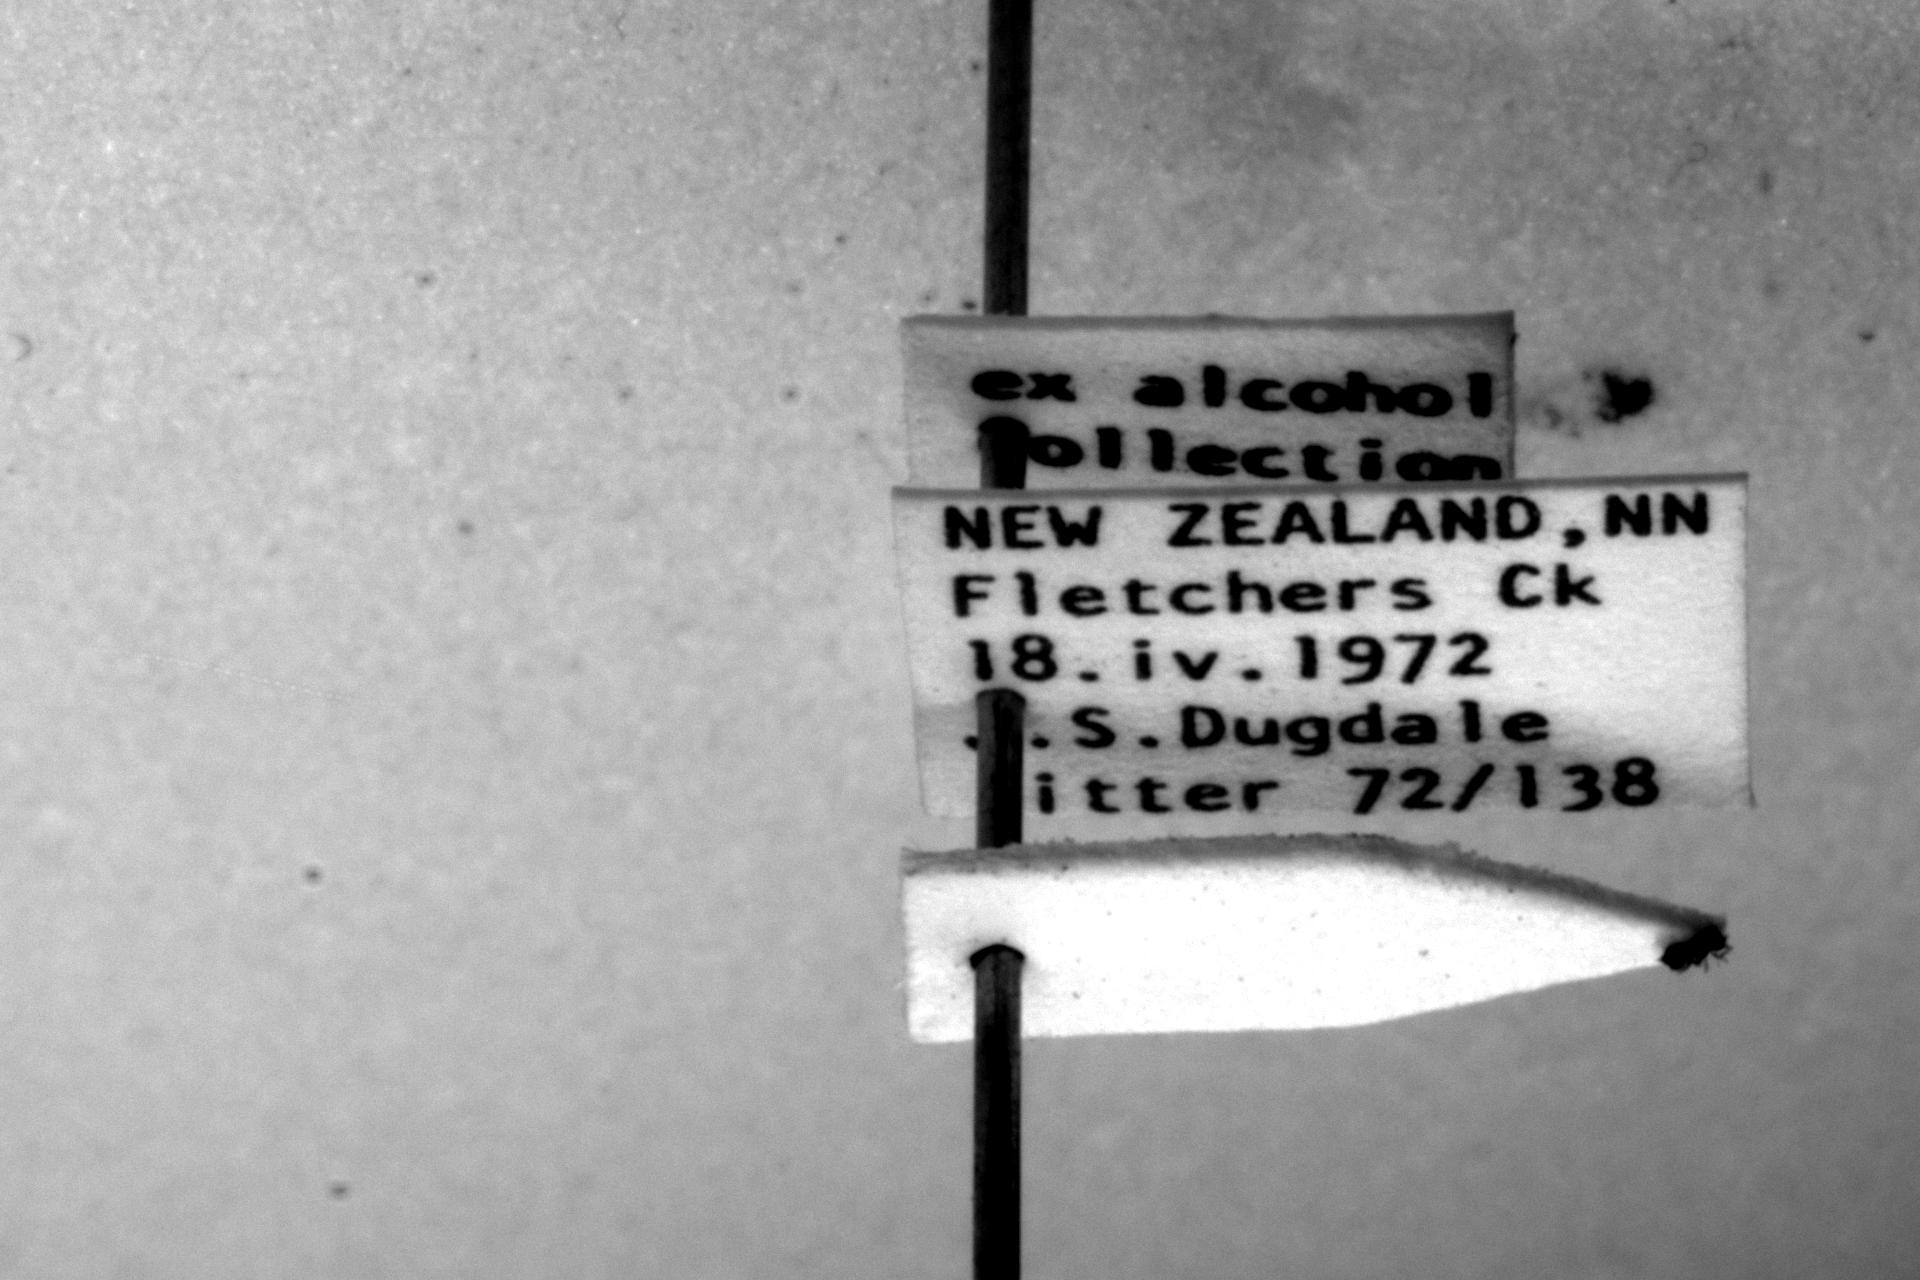typed_label: (893, 476, 1751, 817), (904, 311, 1514, 487)
